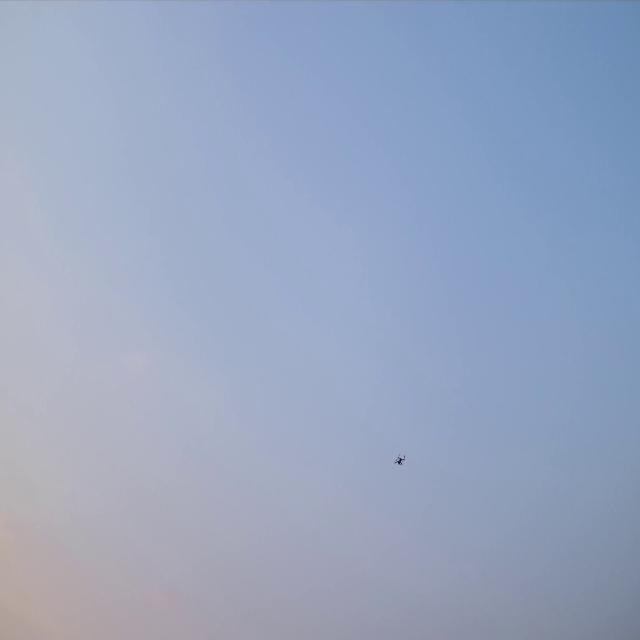UAV: (396, 456, 404, 464)
